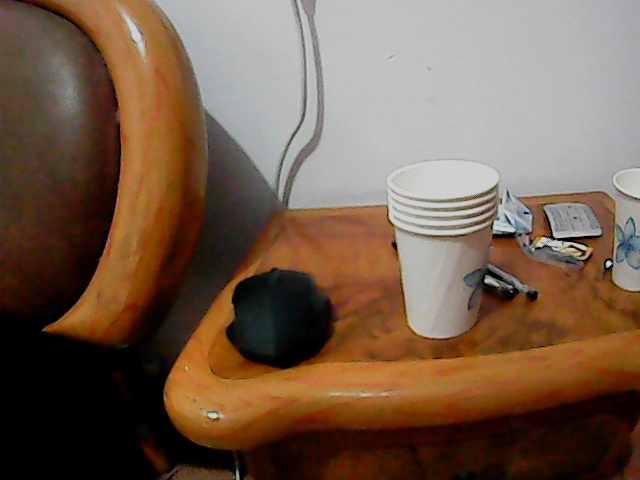cup: (384, 158, 498, 339)
mouse: (225, 265, 335, 370)
